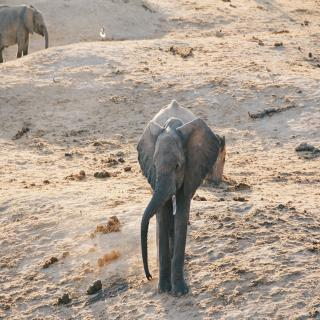Elephant: (129, 93, 225, 295), (0, 0, 50, 73)
